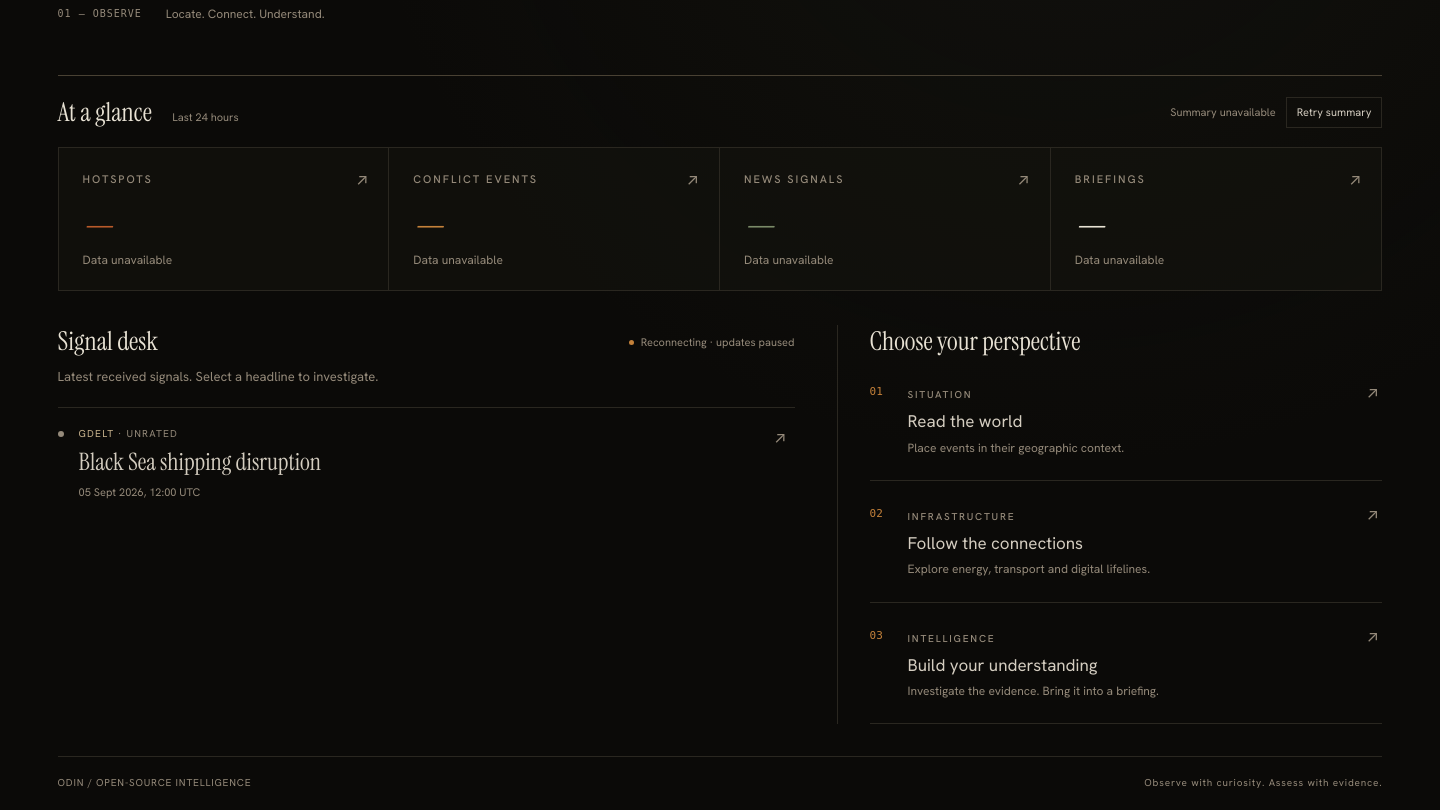
landing situation experience › offers a retry when the summary fails, then recovers without remounting
(page scrolled)
Click the button "Retry summary": (1334, 113) [1286,97,1382,128]
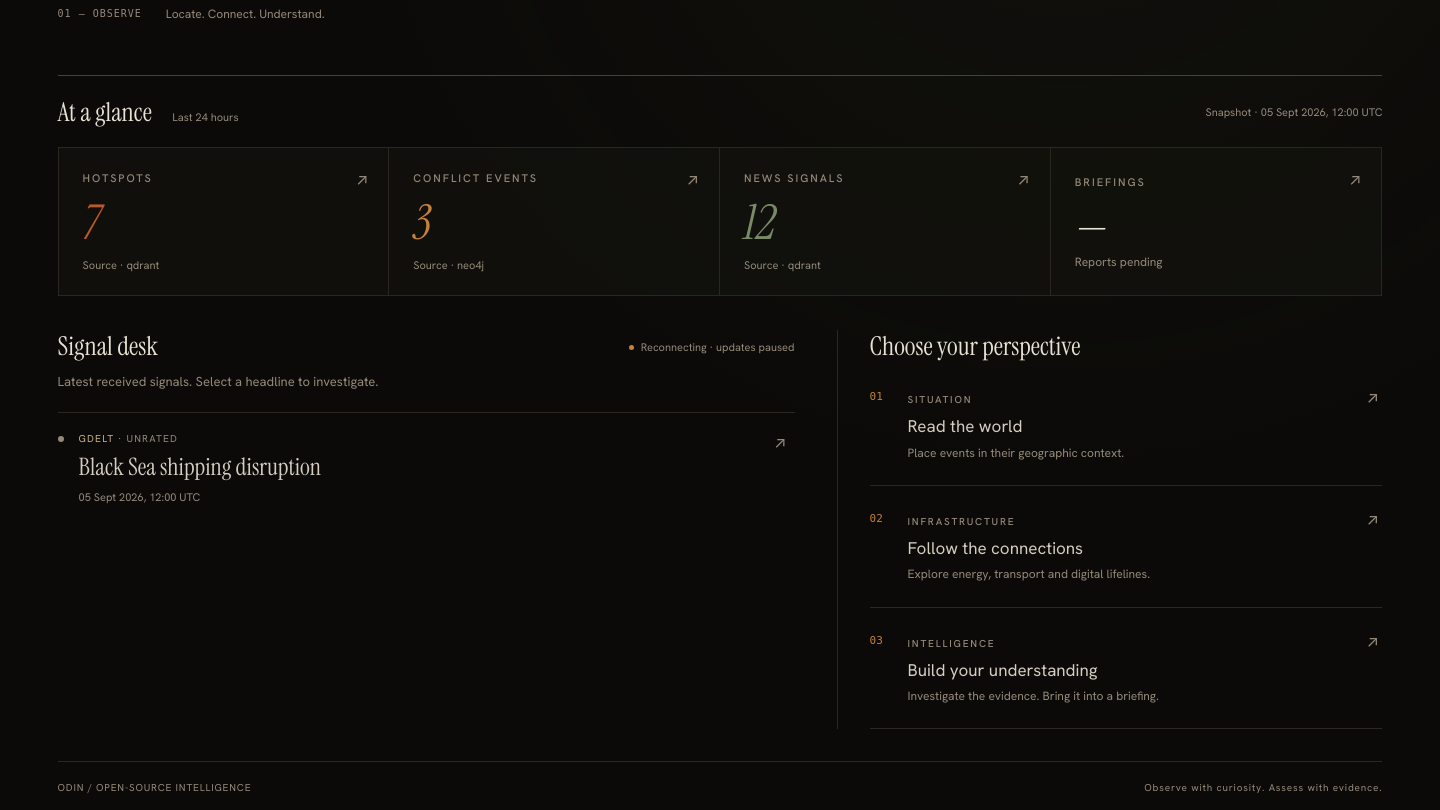
Check: the text "7" is shown, box [83,191,100,254]
Check: the button "Retry summary" is gone
